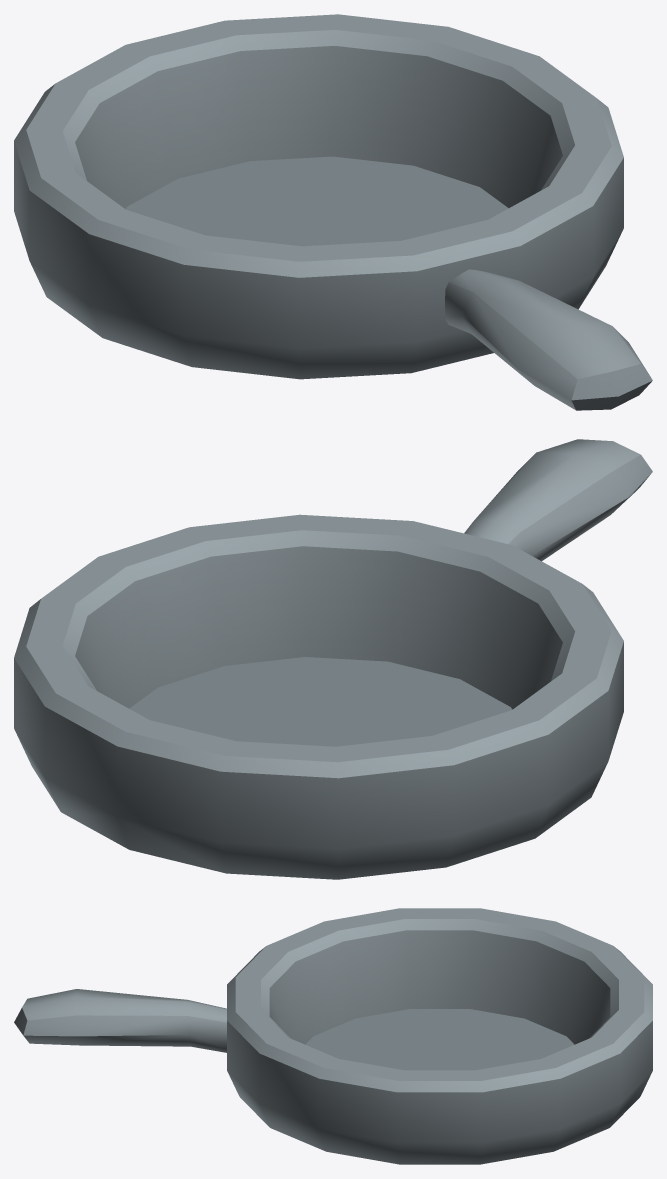
File: Pan A.glb
3 renders of one model, top to bottom at view 1: azimuth 30°, elevation 25°; view 2: azimuth 150°, elevation 25°; view 3: azimuth 270°, elevation 25°, orthographic. The views are drawn at different scales.
Parts seen in each view (by area): view 1: pan_A; view 2: pan_A; view 3: pan_A.
Boxes of the visible parts, <box> form: pan_A: <box>14,14,652,410</box>; pan_A: <box>14,439,652,879</box>; pan_A: <box>14,908,652,1164</box>.
Bounding box in the file's own units: 1 × 0.25 × 1.5.
Materials: 1 (1 with a texture image).
